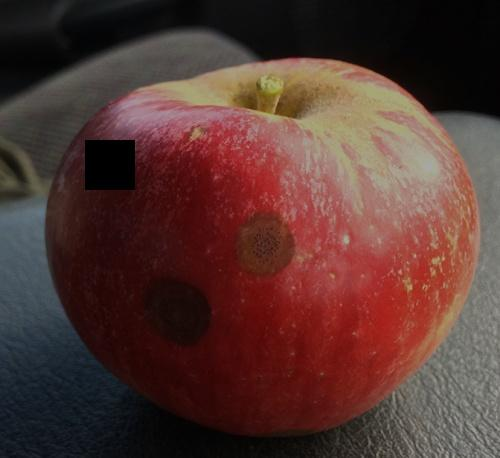rotten apple: (44, 59, 480, 437)
